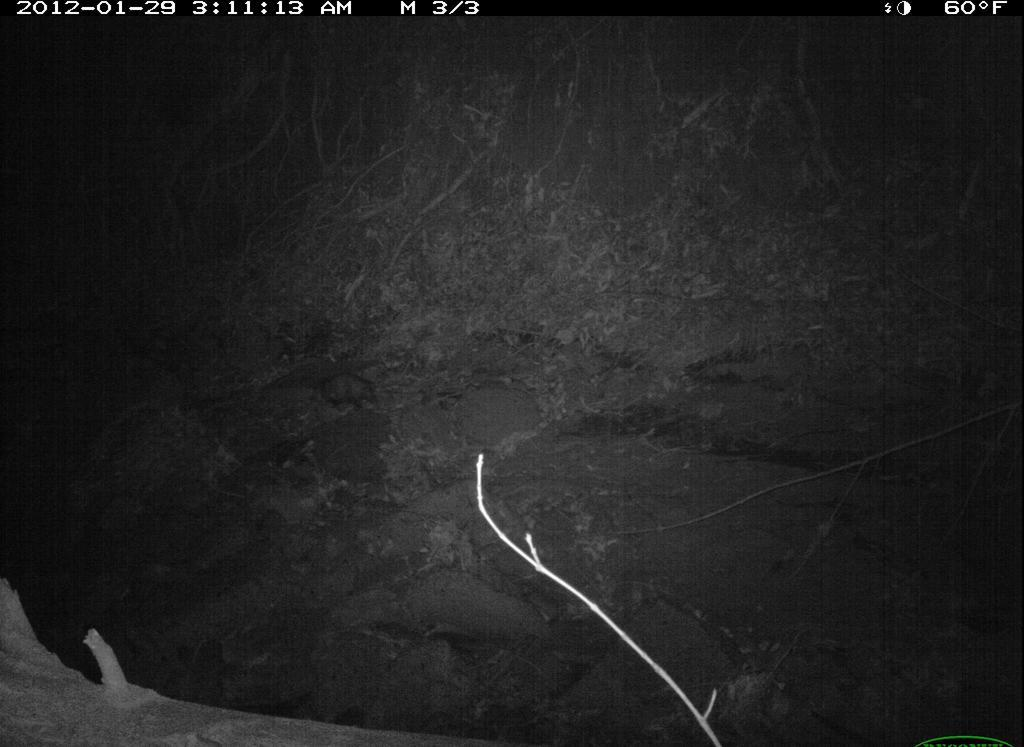opossum: (314, 367, 394, 414)
